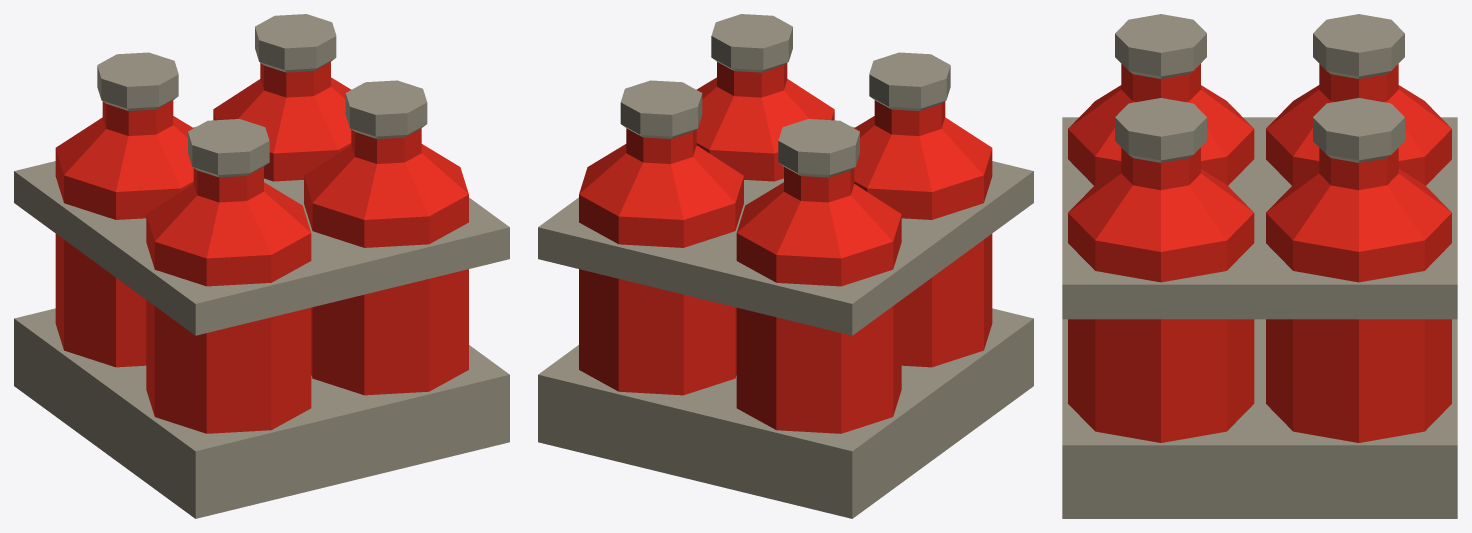
3 renders of one model, left to right at view 1: azimuth 30°, elevation 25°; view 2: azimuth 150°, elevation 25°; view 3: azimuth 270°, elevation 25°, orthographic. The views are drawn at different scales.
Parts seen in each view (by area): view 1: Куб.014; view 2: Куб.014; view 3: Куб.014.
Boxes of the visible parts, bbox=[...] form: Куб.014: bbox=[14, 14, 509, 518]; Куб.014: bbox=[538, 14, 1033, 518]; Куб.014: bbox=[1062, 14, 1457, 518].
Size of the model in its own units: 99 by 99.45 by 99.
